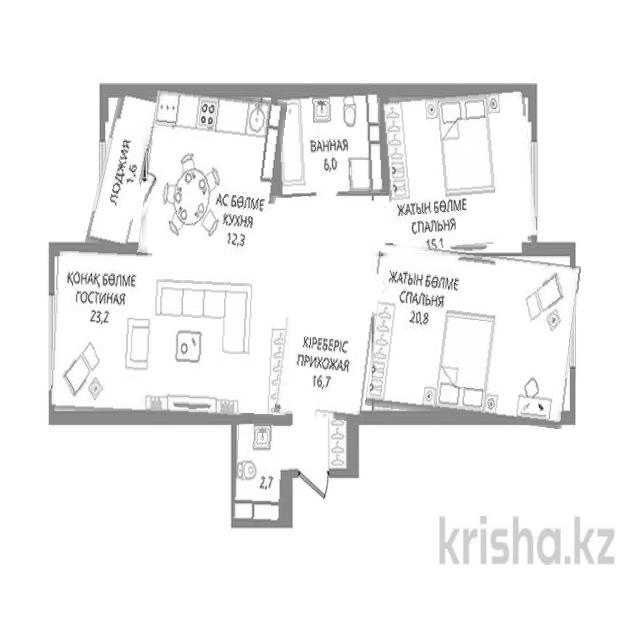balcony: (93, 89, 153, 251)
bathroom: (272, 86, 386, 197), (235, 414, 290, 525)
hallway: (281, 198, 380, 420)
kitchen: (142, 90, 283, 263)
living_room: (51, 251, 292, 418), (369, 249, 576, 424), (384, 90, 534, 250)
